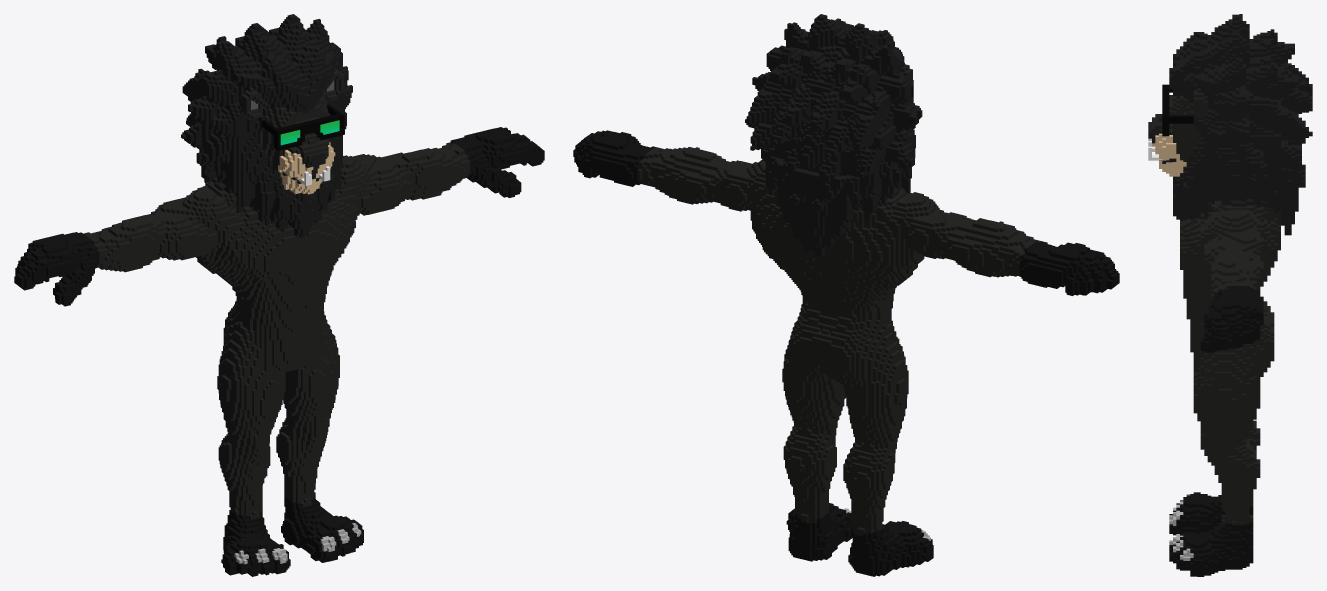
The model's file is 325-DGDimAJL.glb.
3 views of the same model, side by side, from view 1: azimuth 30°, elevation 25°; view 2: azimuth 150°, elevation 25°; view 3: azimuth 270°, elevation 25° (orthographic). The views are drawn at different scales.
Parts seen in each view (by area): view 1: ork; view 2: ork; view 3: ork.
Boxes of the visible parts, x1,y1,x2,y2 form: ork: (14, 14, 544, 576); ork: (573, 14, 1119, 576); ork: (1148, 14, 1312, 576).
Bounding box in the file's own units: 17.2 × 16.5 × 4.7.
4 materials, 4 textured.
